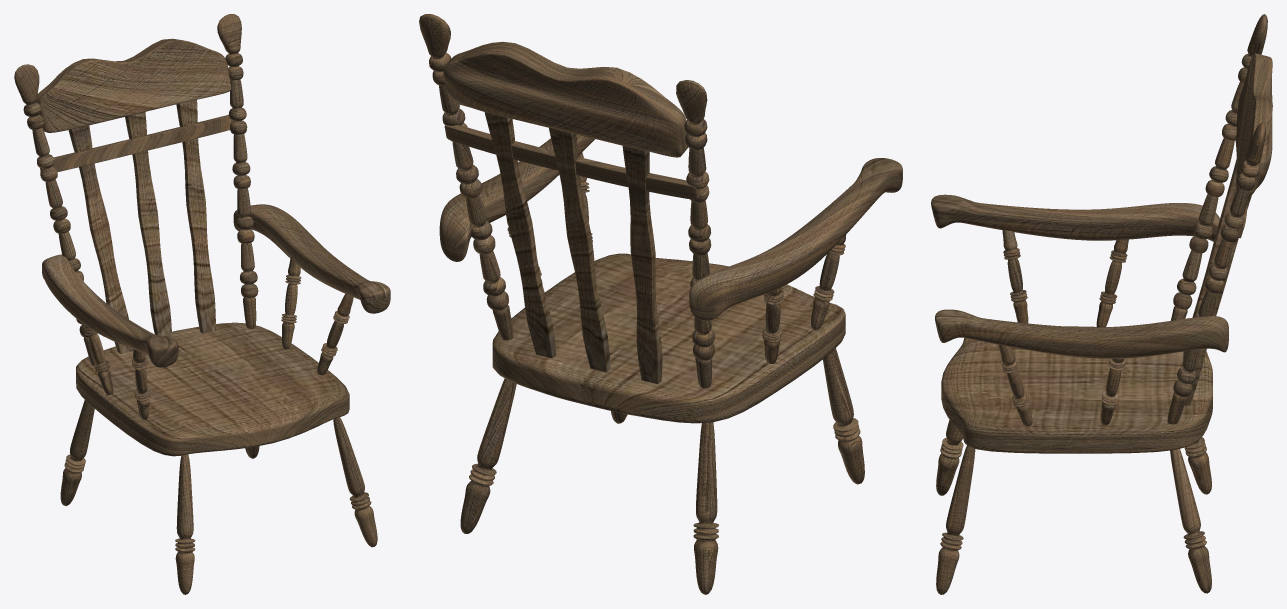
The model's file is chair9.fbx.
3 views of the same model, side by side, from view 1: azimuth 30°, elevation 25°; view 2: azimuth 150°, elevation 25°; view 3: azimuth 270°, elevation 25° (orthographic). The views are drawn at different scales.
Parts seen in each view (by area): view 1: Cube.001; view 2: Cube.001; view 3: Cube.001.
Part boxes in pixels (x1,y1,x2,y2): Cube.001: (14, 14, 390, 594); Cube.001: (419, 14, 902, 594); Cube.001: (931, 14, 1272, 594).
Size of the model in its own units: 61.89 by 102 by 66.98.
